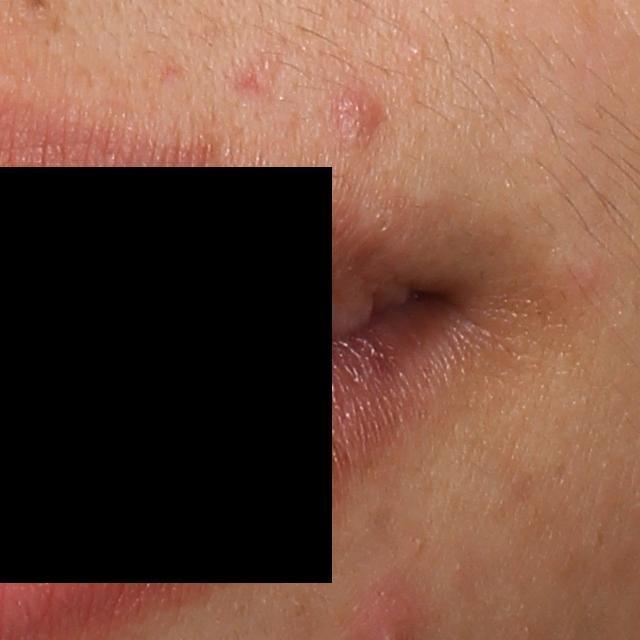papule: (324, 86, 391, 152)
